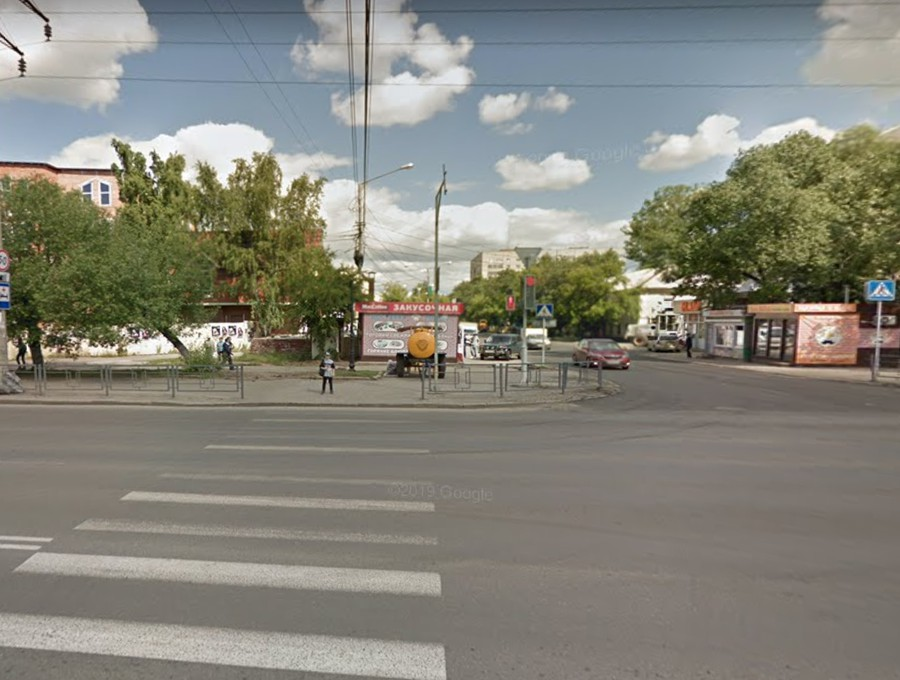Traffic Light-red: (506, 291, 516, 316)
